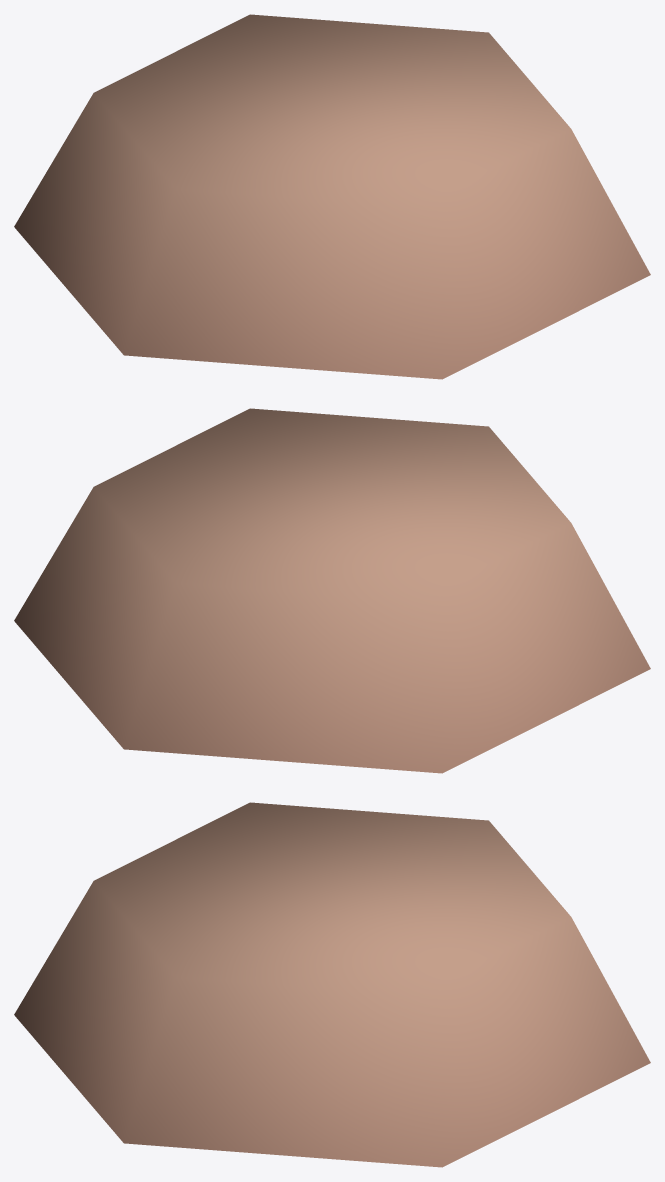
File: (%no-merge) 24.glb
3 views of the same model, one above another, from view 1: azimuth 30°, elevation 25°; view 2: azimuth 150°, elevation 25°; view 3: azimuth 270°, elevation 25° (orthographic).
Visible parts, largest first — view 1: (%no-merge) 24; view 2: (%no-merge) 24; view 3: (%no-merge) 24.
Boxes of the visible parts, <box> form: (%no-merge) 24: <box>14,14,650,379</box>; (%no-merge) 24: <box>14,408,650,773</box>; (%no-merge) 24: <box>14,802,650,1167</box>.
Bounding box in the file's own units: 0.0394 × 0.01 × 0.0412.
